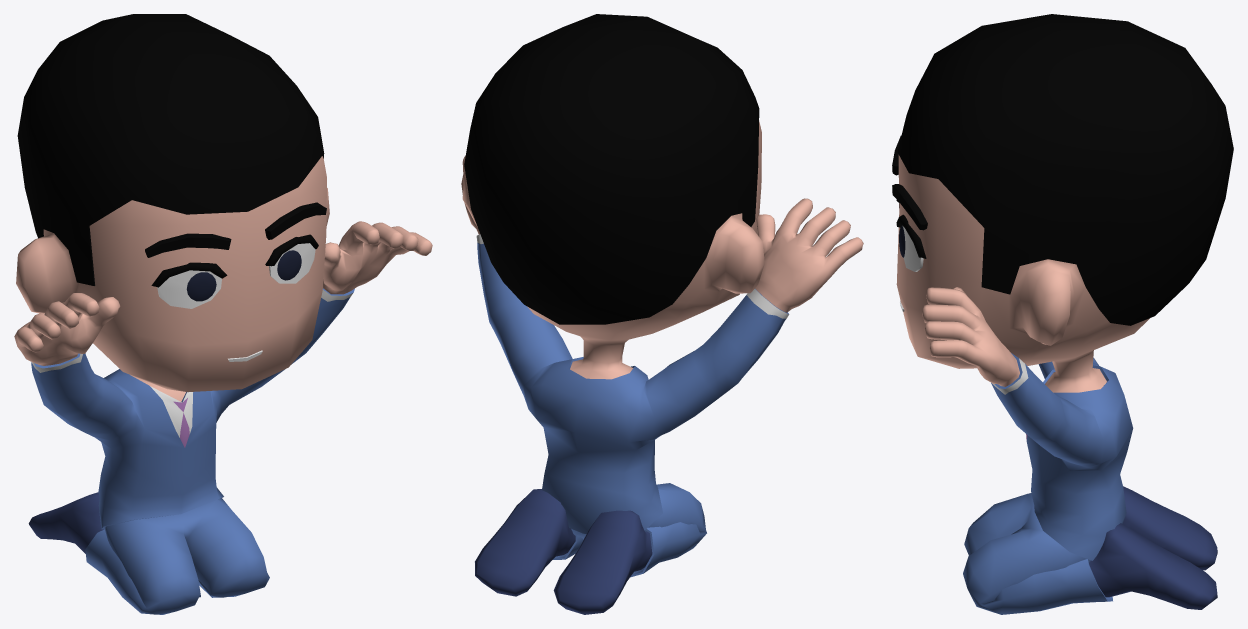
The model's file is Personajes_juzgado.fbx.
The picture shows the model from 3 angles, left to right: view 1: azimuth 30°, elevation 25°; view 2: azimuth 150°, elevation 25°; view 3: azimuth 270°, elevation 25°; orthographic projection. The views are drawn at different scales.
Visible parts, largest first — view 1: hair4.004, body, shirt3, pants1, eyesbase2, socks, eyebrows1, eyes6; view 2: hair4.004, shirt3, body, socks, pants1; view 3: hair4.004, body, shirt3, pants1, socks, eyesbase2, eyebrows1.
Part boxes in pixels (x1=…): hair4.004: x1=17, y1=14, x2=324, y2=285; body: x1=14, y1=156, x2=432, y2=401; shirt3: x1=31, y1=288, x2=354, y2=529; pants1: x1=85, y1=498, x2=269, y2=614; eyesbase2: x1=151, y1=234, x2=318, y2=308; socks: x1=28, y1=492, x2=104, y2=553; eyebrows1: x1=145, y1=202, x2=326, y2=257; eyes6: x1=186, y1=250, x2=301, y2=301; hair4.004: x1=464, y1=14, x2=759, y2=324; shirt3: x1=476, y1=234, x2=789, y2=533; body: x1=461, y1=120, x2=863, y2=379; socks: x1=475, y1=489, x2=652, y2=614; pants1: x1=553, y1=483, x2=706, y2=577; hair4.004: x1=897, y1=14, x2=1233, y2=325; body: x1=896, y1=155, x2=1149, y2=392; shirt3: x1=991, y1=353, x2=1133, y2=560; pants1: x1=963, y1=493, x2=1112, y2=614; socks: x1=1089, y1=486, x2=1217, y2=609; eyesbase2: x1=896, y1=199, x2=926, y2=271; eyebrows1: x1=892, y1=135, x2=927, y2=230.
Size of the model in its own units: 98.24 by 128 by 70.34.
